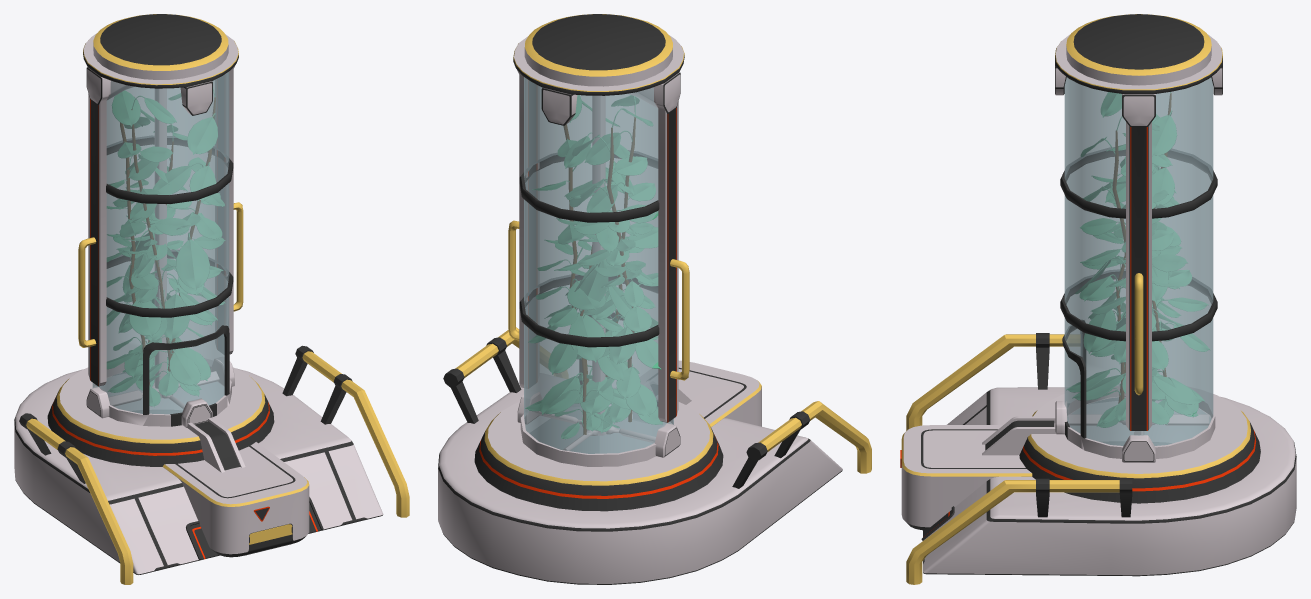
Rendered from oxygen_farm_1.fbx.
3 views of the same model, side by side, from view 1: azimuth 30°, elevation 25°; view 2: azimuth 150°, elevation 25°; view 3: azimuth 270°, elevation 25° (orthographic). The views are drawn at different scales.
Visible parts, largest first — view 1: Oxygen_Farm_1; view 2: Oxygen_Farm_1; view 3: Oxygen_Farm_1.
Part boxes in pixels (x1,y1,x2,y2): Oxygen_Farm_1: (14, 14, 409, 584); Oxygen_Farm_1: (438, 14, 871, 584); Oxygen_Farm_1: (900, 14, 1296, 584).
Bounding box in the file's own units: 245 × 350 × 269.
